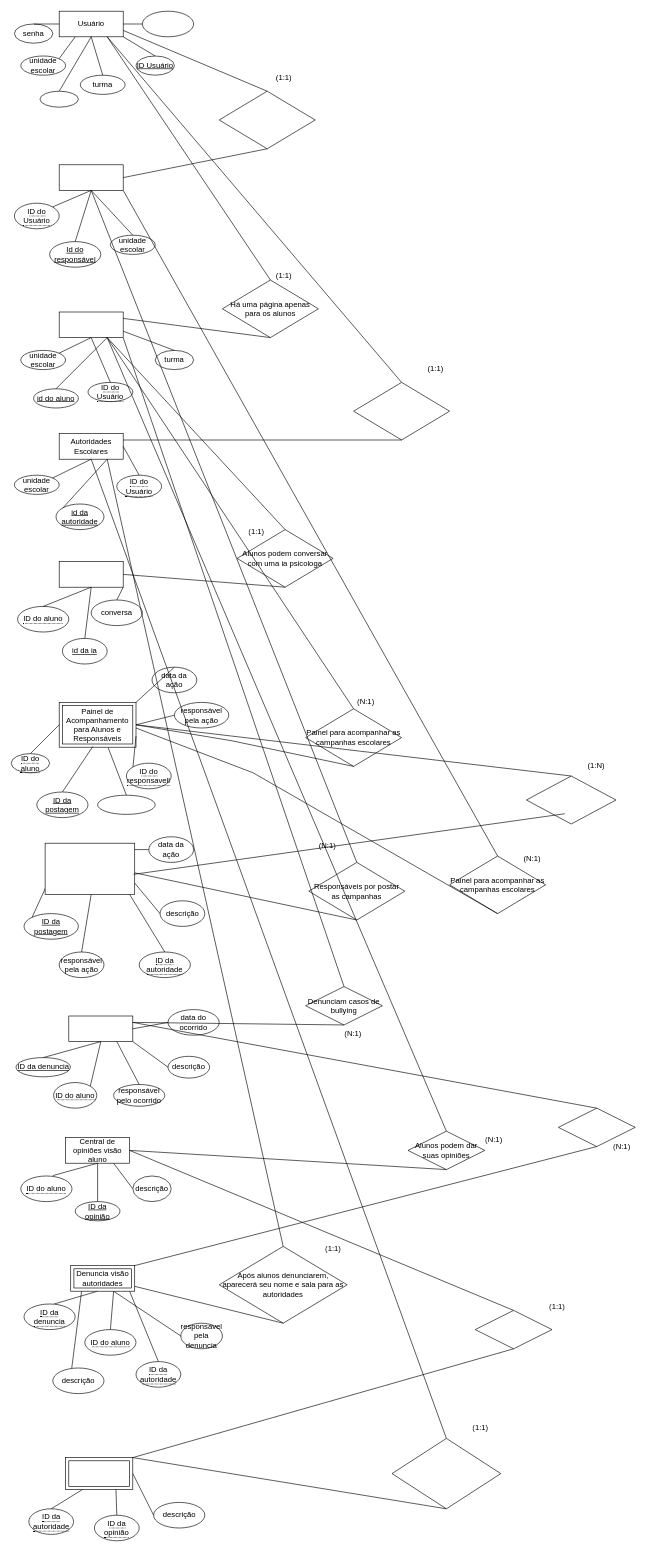
This 646x1552 diagram has some shape labels left out. Here are the shapes that lost their labels. From the top down, the centre of each, then its label:
At (x=168, y=24): "email institucional".
At (x=58, y=99): "nome".
At (x=267, y=120): "Há uma página apenas para os responsáveis".
At (x=91, y=177): "Família".
At (x=91, y=324): "Alunos".
At (x=401, y=411): "Há uma página apenas para as autoridades".
At (x=91, y=574): "IA Pisicologa".
At (x=126, y=804): "descrição de postagem".
At (x=571, y=799): "Manda o assunto e so existe se a autridade postar algo".
At (x=89, y=868): "Painel de Acompanhamento para Autoridades Escolares".
At (x=100, y=1028): "Denuncia Visão Esudantes".
At (x=596, y=1127): "Manda o assunto da denuncia".
At (x=513, y=1329): "Manda a opinião do aluno".
At (x=99, y=1473): "Central de opiniões visão autoridade".
At (x=446, y=1473): "Recebem as opiniões dos aulonos".
